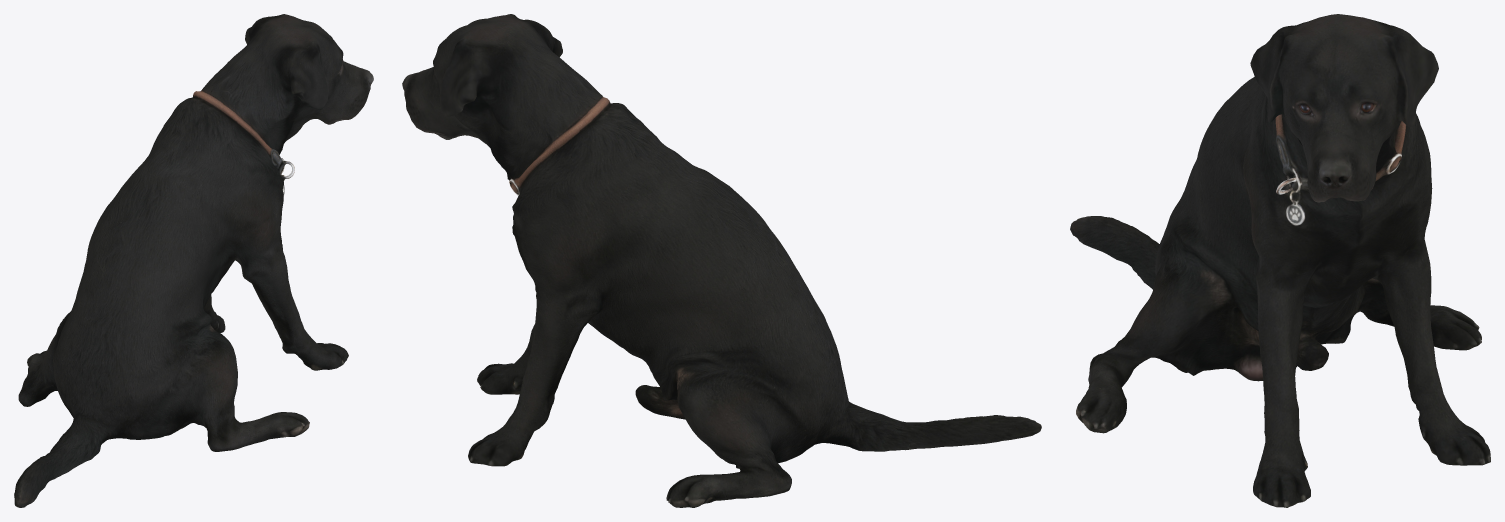
File: dog_a_-_1of6_-_for_free__happy_new_year_2022.glb
3 views of the same model, side by side, from view 1: azimuth 30°, elevation 25°; view 2: azimuth 150°, elevation 25°; view 3: azimuth 270°, elevation 25° (orthographic). The views are drawn at different scales.
Parts seen in each view (by area): view 1: DOG_Anton_E; view 2: DOG_Anton_E; view 3: DOG_Anton_E.
Boxes of the visible parts, <box> form: DOG_Anton_E: <box>14,14,373,507</box>; DOG_Anton_E: <box>402,14,1041,507</box>; DOG_Anton_E: <box>1070,14,1490,507</box>.
Size of the model in its own units: 1.07 by 0.744 by 0.6147.
1 material, 1 textured.
